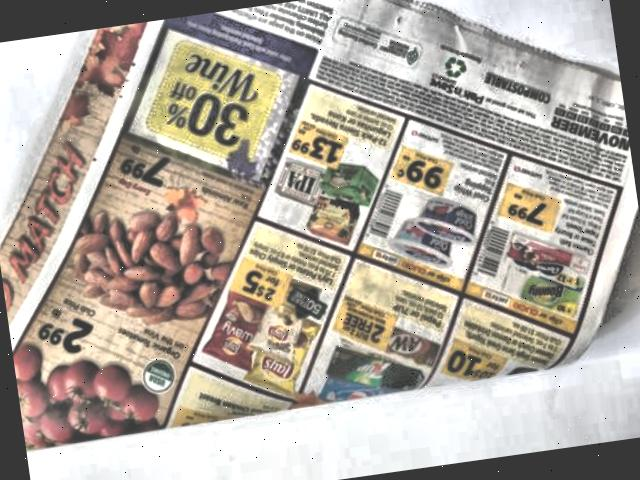Paper: (0, 0, 640, 455)
